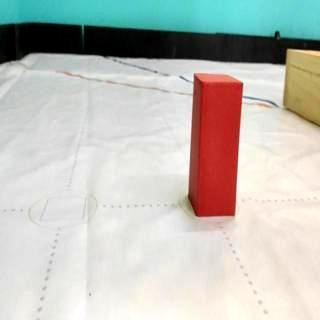redbox: (188, 72, 244, 216)
